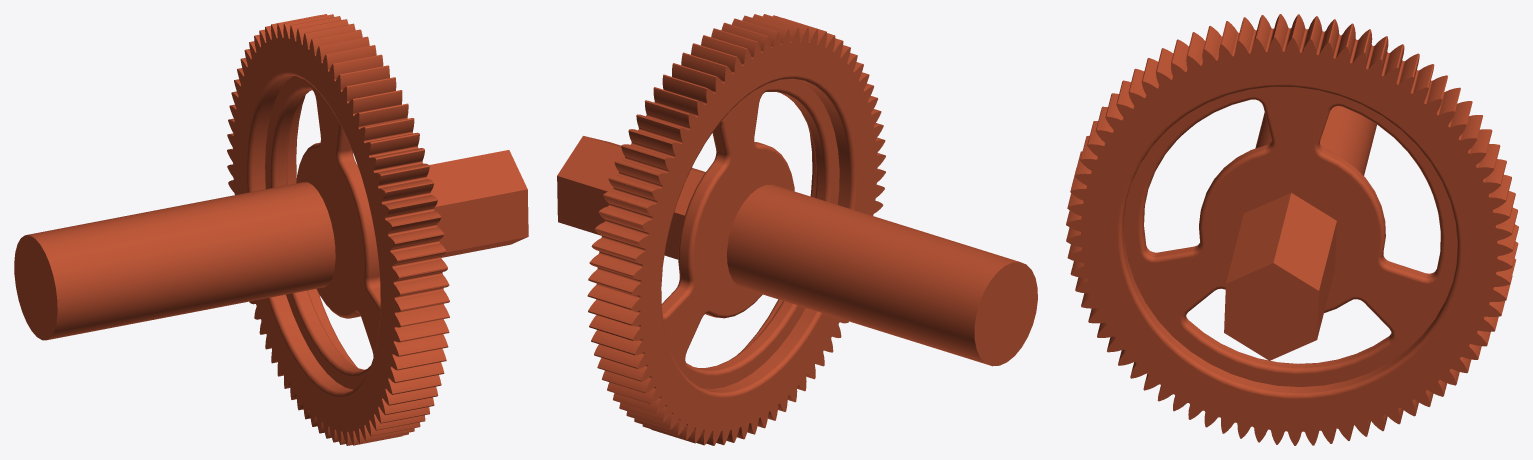
Rendered from Arm gear.gltf.
3 views of the same model, side by side, from view 1: azimuth 30°, elevation 25°; view 2: azimuth 150°, elevation 25°; view 3: azimuth 270°, elevation 25° (orthographic). The views are drawn at different scales.
Parts seen in each view (by area): view 1: Solid1; view 2: Solid1; view 3: Solid1.
Boxes of the visible parts, x1=… form: Solid1: x1=14, y1=14, x2=528, y2=445; Solid1: x1=557, y1=14, x2=1037, y2=445; Solid1: x1=1066, y1=14, x2=1518, y2=445.
Size of the model in its own units: 0.0294 by 0.024 by 0.0242.
